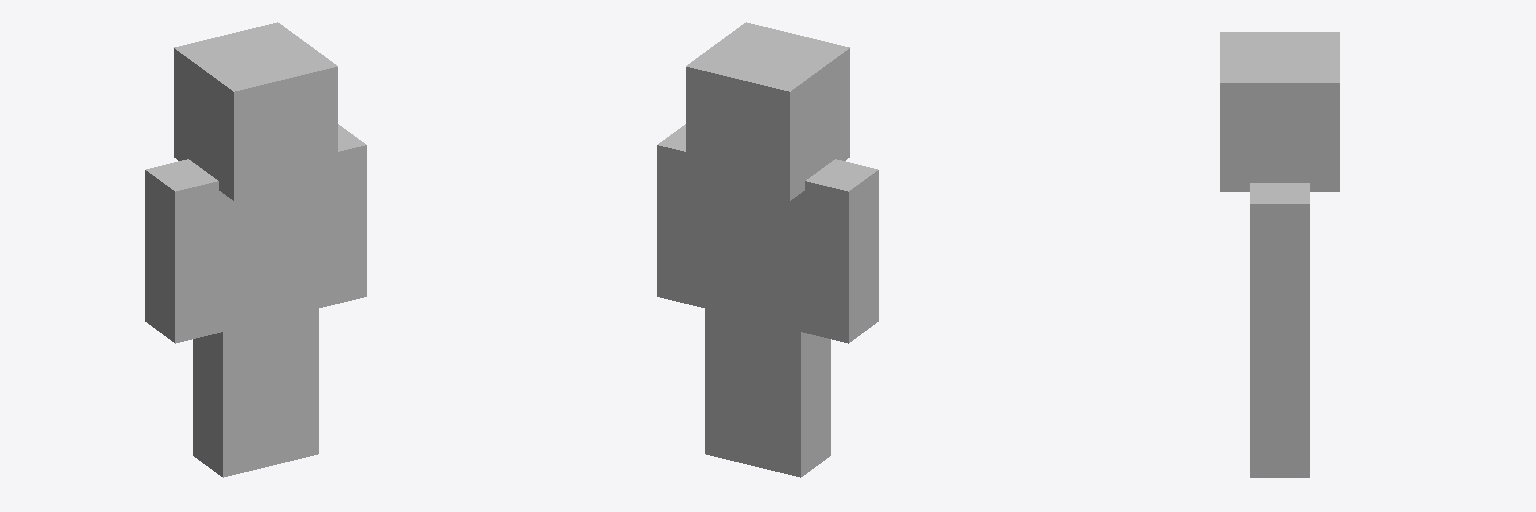
Rendered from female1.obj.
3 views of the same model, side by side, from view 1: azimuth 30°, elevation 25°; view 2: azimuth 150°, elevation 25°; view 3: azimuth 270°, elevation 25° (orthographic).
Visible parts, largest first — view 1: Hat Layer, Left Arm Layer, Left Leg Layer, Body Layer, Right Arm Layer, Right Leg Layer; view 2: Hat Layer, Left Arm Layer, Left Leg Layer, Body Layer, Right Arm Layer, Right Leg Layer; view 3: Hat Layer, Right Arm Layer, Right Leg Layer.
Part boxes in pixels (x1,y1,x2,y2): Hat Layer: (174, 22, 337, 200); Left Arm Layer: (145, 159, 227, 343); Left Leg Layer: (193, 313, 274, 477); Body Layer: (222, 180, 319, 328); Right Arm Layer: (315, 124, 366, 308); Right Leg Layer: (267, 309, 318, 465); Hat Layer: (686, 22, 849, 200); Left Arm Layer: (796, 159, 878, 343); Left Leg Layer: (749, 313, 830, 477); Body Layer: (704, 181, 801, 324); Right Arm Layer: (657, 124, 708, 308); Right Leg Layer: (705, 306, 756, 466); Hat Layer: (1220, 32, 1339, 191); Right Arm Layer: (1250, 183, 1309, 355); Right Leg Layer: (1250, 356, 1309, 477).
Bounding box in the file's own units: 1.03 × 2.05 × 0.5625.